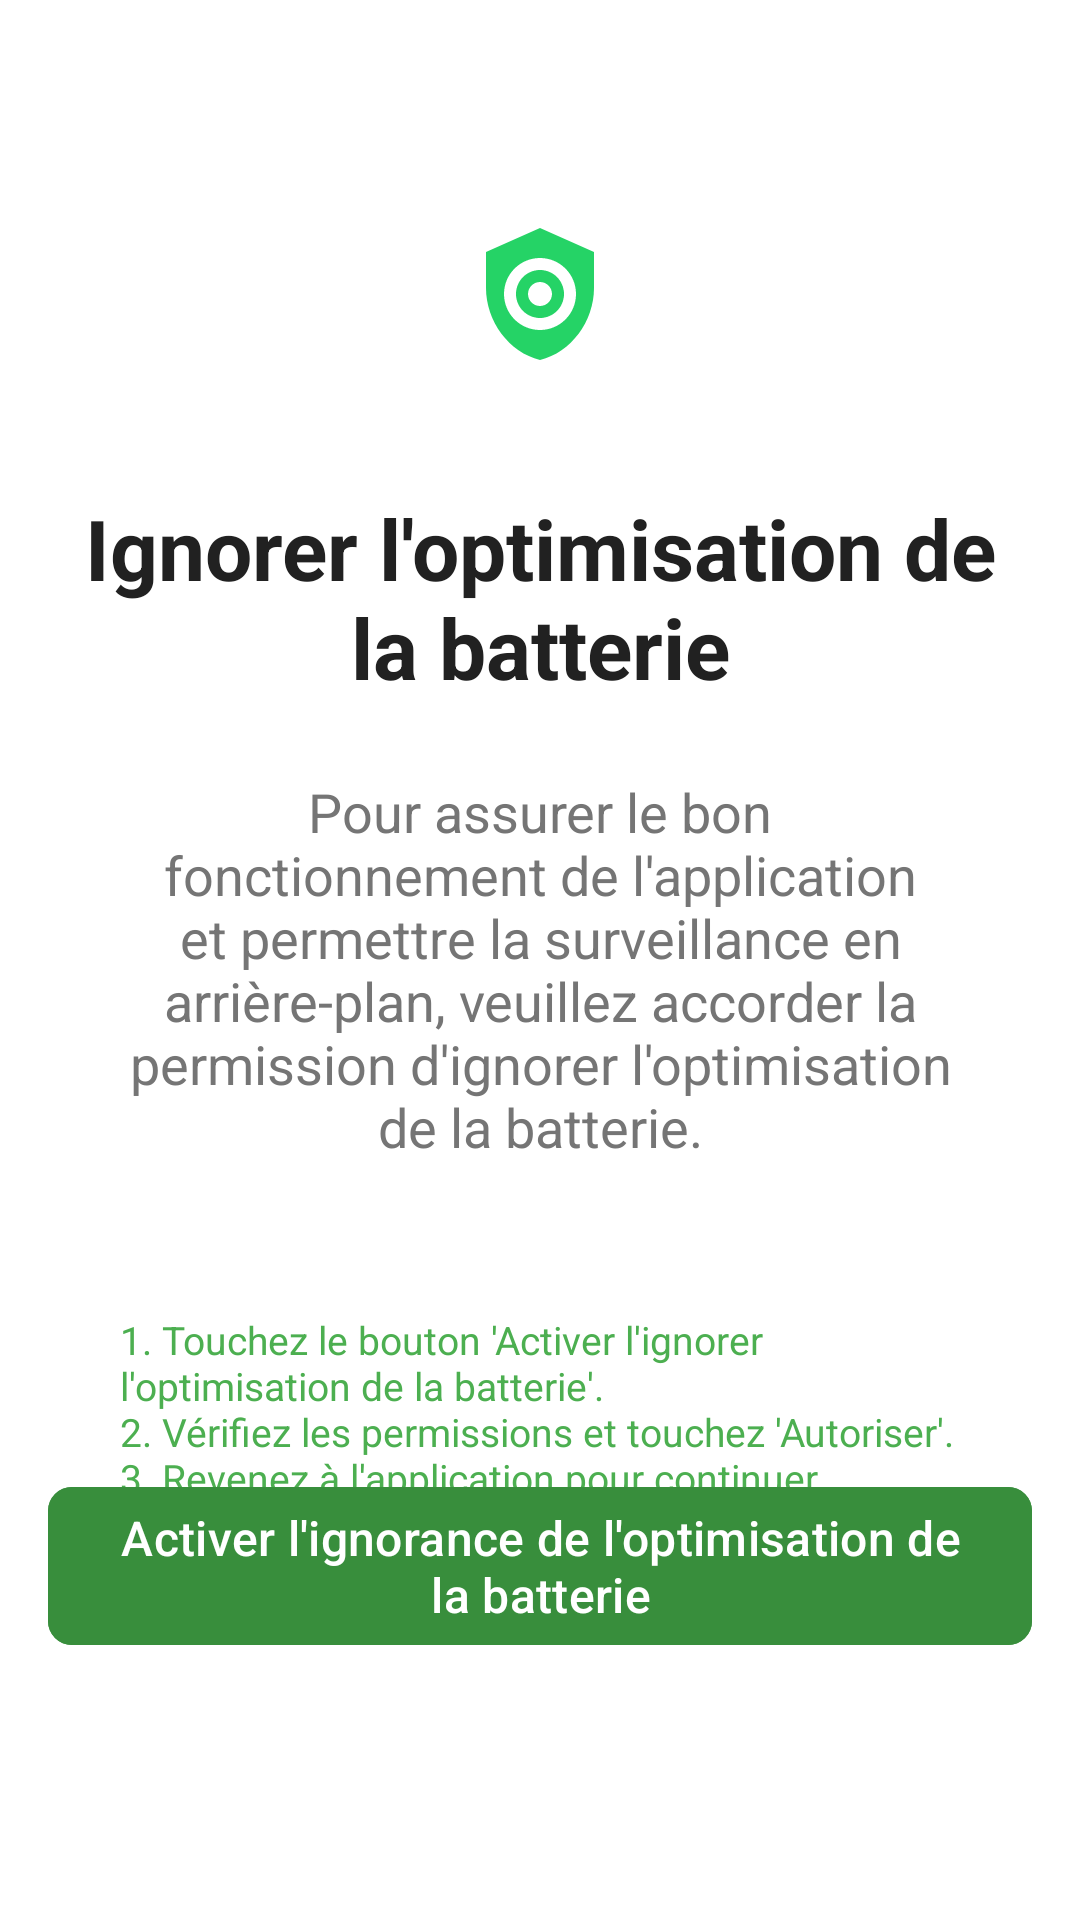

Named icons in this screenshot (1080 × 1920) and their bounding boxes, (x1, y1, x2, y2):
icône de l'application: (486, 228, 594, 360)
